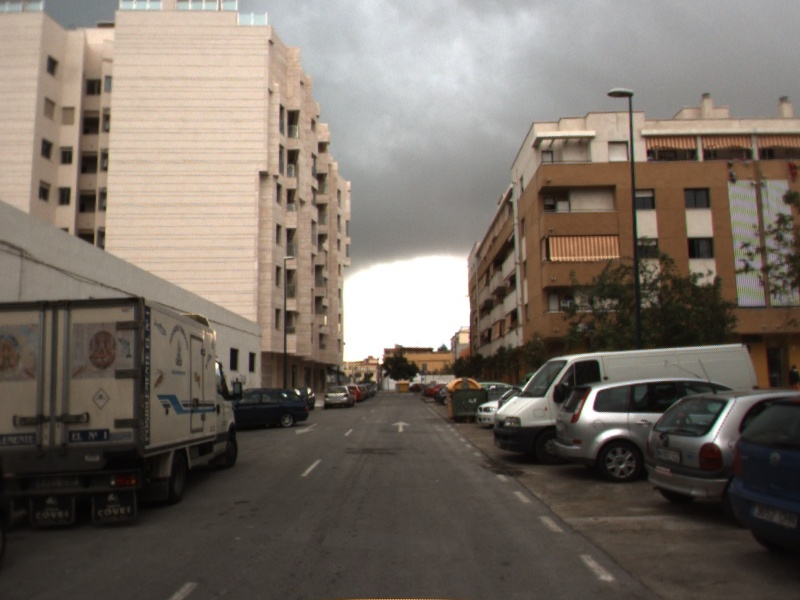STRAIGHT: (389, 418, 414, 434)
